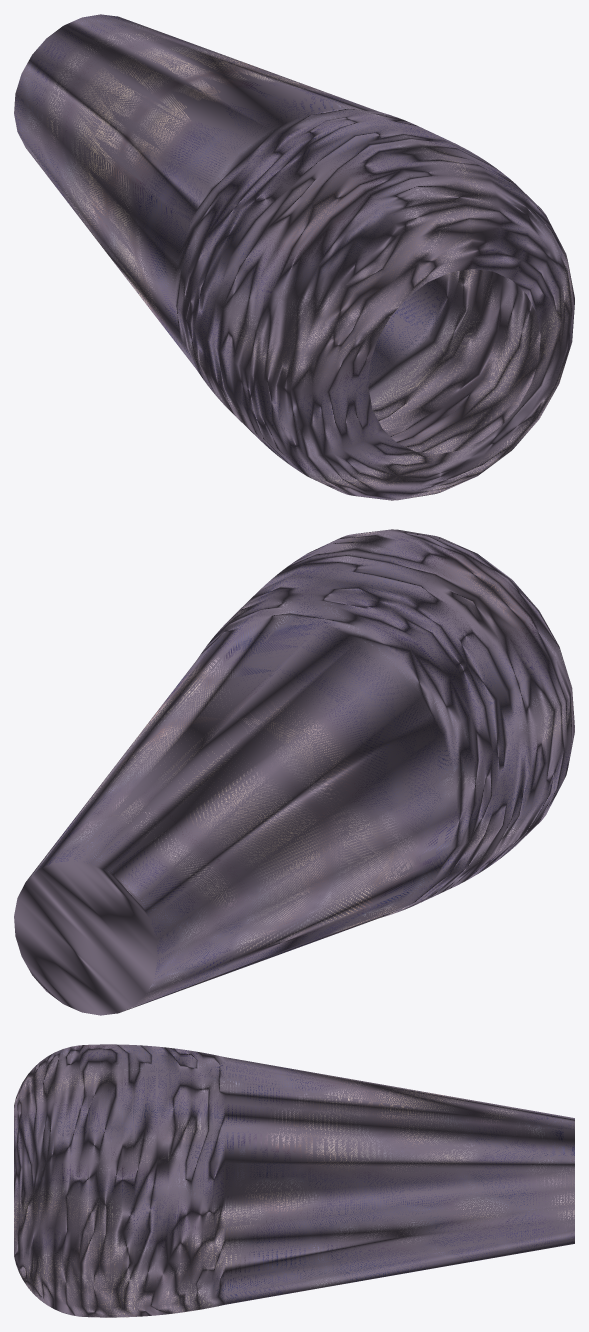
Rendered from model_align.obj.
3 renders of one model, top to bottom at view 1: azimuth 30°, elevation 25°; view 2: azimuth 150°, elevation 25°; view 3: azimuth 270°, elevation 25°, orthographic. The views are drawn at different scales.
Size of the model in its own units: 0.0955 by 0.0955 by 0.195.
